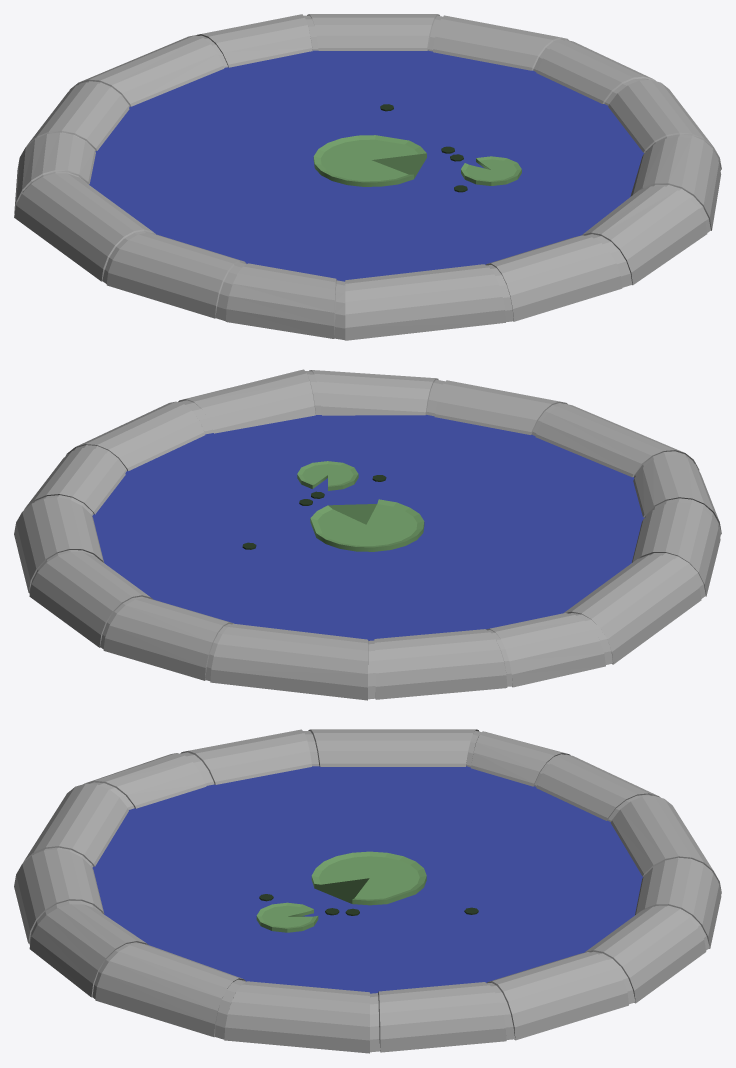
File: pond.fbx
3 views of the same model, one above another, from view 1: azimuth 30°, elevation 25°; view 2: azimuth 150°, elevation 25°; view 3: azimuth 270°, elevation 25° (orthographic).
Parts seen in each view (by area): view 1: pCylinder7, pTorus1, pCylinder1, pCylinder2; view 2: pCylinder7, pTorus1, pCylinder1, pCylinder2; view 3: pCylinder7, pTorus1, pCylinder1, pCylinder2.
Boxes of the visible parts, left/top/right/bottom form: pCylinder7: left=89, top=50, right=644, bottom=281; pTorus1: left=14, top=14, right=721, bottom=340; pCylinder1: left=313, top=135, right=426, bottom=186; pCylinder2: left=461, top=156, right=521, bottom=185; pCylinder7: left=92, top=415, right=644, bottom=640; pTorus1: left=14, top=369, right=721, bottom=700; pCylinder1: left=310, top=499, right=424, bottom=551; pCylinder2: left=297, top=461, right=358, bottom=490; pCylinder7: left=92, top=766, right=642, bottom=993; pTorus1: left=14, top=729, right=721, bottom=1053; pCylinder1: left=311, top=851, right=426, bottom=905; pCylinder2: left=256, top=902, right=318, bottom=932.
Size of the model in its own units: 6.57 by 0.4672 by 6.57.
